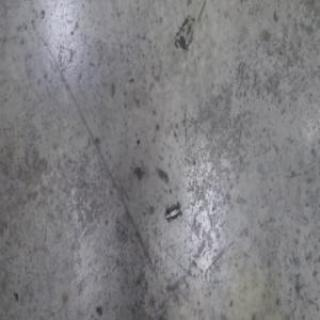Bolttrack_idkeyframe: (163, 200, 181, 222)
